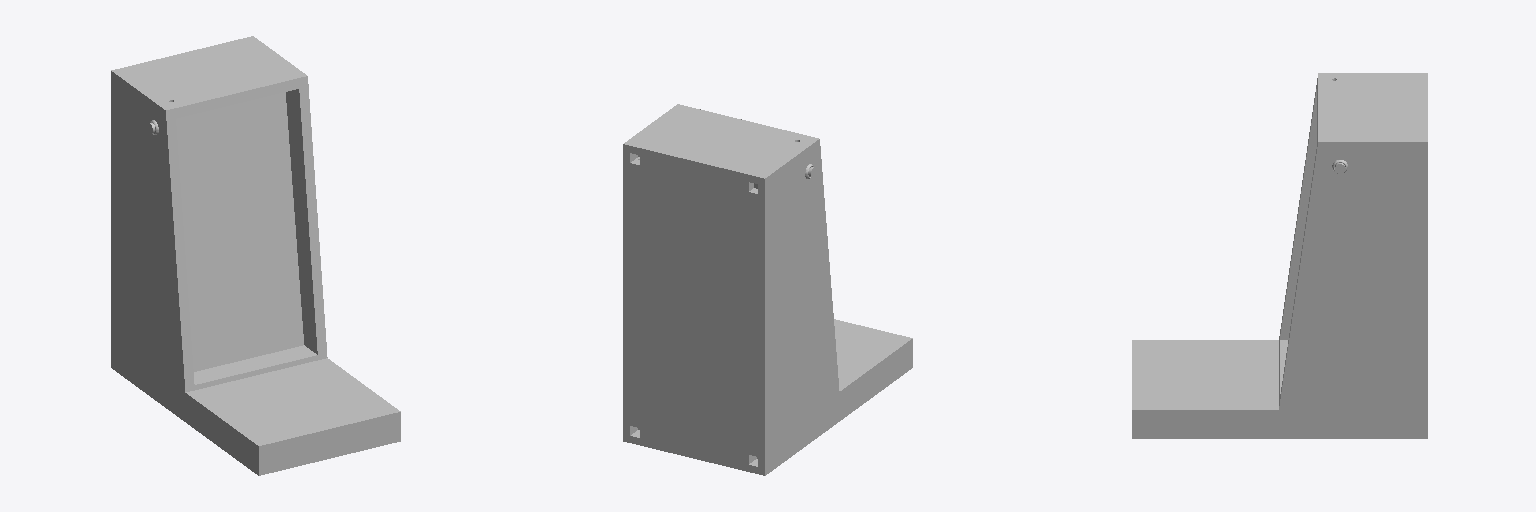
File: tinker.obj
The picture shows the model from 3 angles: view 1: azimuth 30°, elevation 25°; view 2: azimuth 150°, elevation 25°; view 3: azimuth 270°, elevation 25°; orthographic projection.
Visible parts, largest first — view 1: obj_0; view 2: obj_0; view 3: obj_0.
Part boxes in pixels (x1,y1,x2,y2): obj_0: (111,36,400,475); obj_0: (623,104,912,475); obj_0: (1132,73,1427,438).
Size of the model in its own units: 32 by 60 by 54.